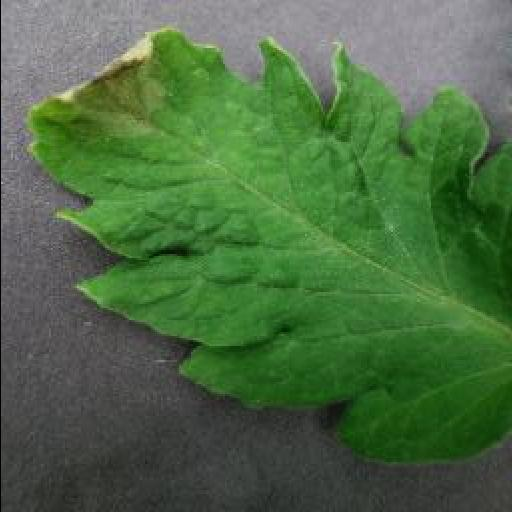disease_tomato: (26, 24, 512, 470)
